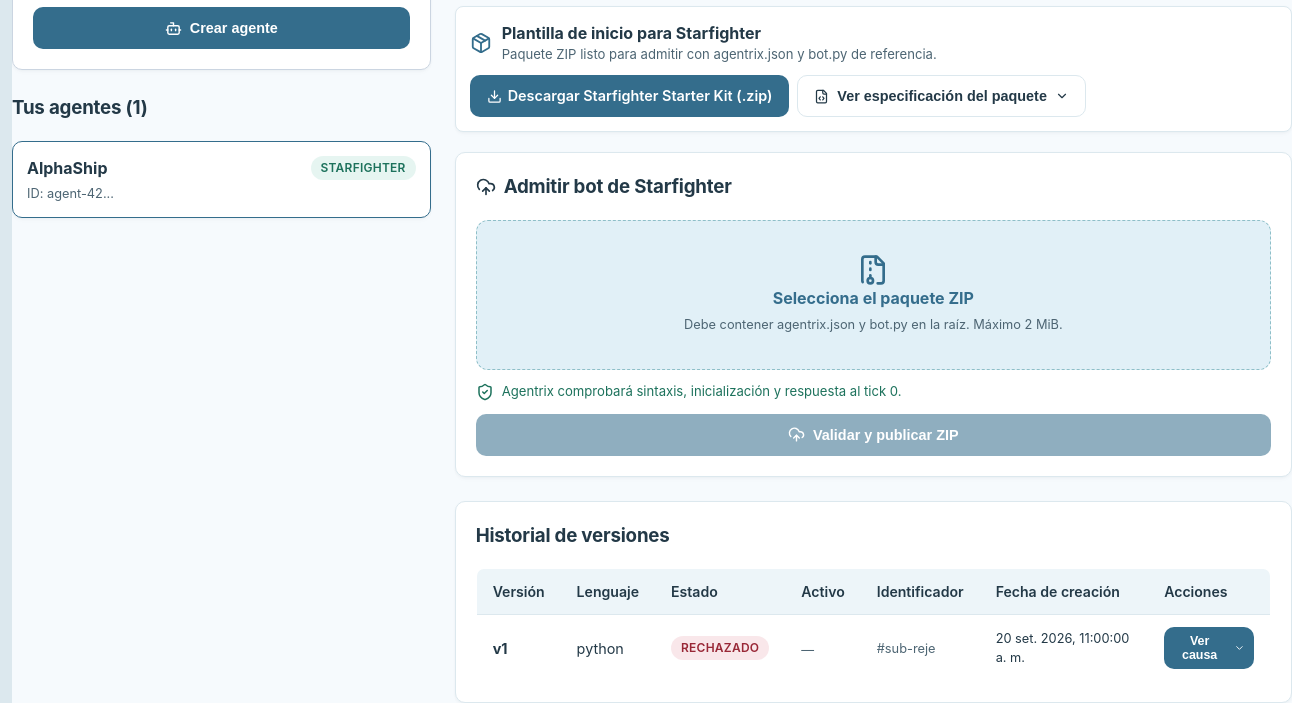
Test: Sprint FQ-2: Asynchronous Bot Admission & Validation Feedback › AgentsPage Asynchronous Admission Integration › renders rejection banner and allows expanding error reason in history when rejected
(page scrolled)
Expected: the text "Rechazado" is shown, x1=671 y1=636 x2=769 y2=660
// Click "Ver causa" to expand error details
Step 1. Click the button "Ver causa" → x=1209, y=648, box x1=1164 y1=627 x2=1254 y2=669
(page scrolled)
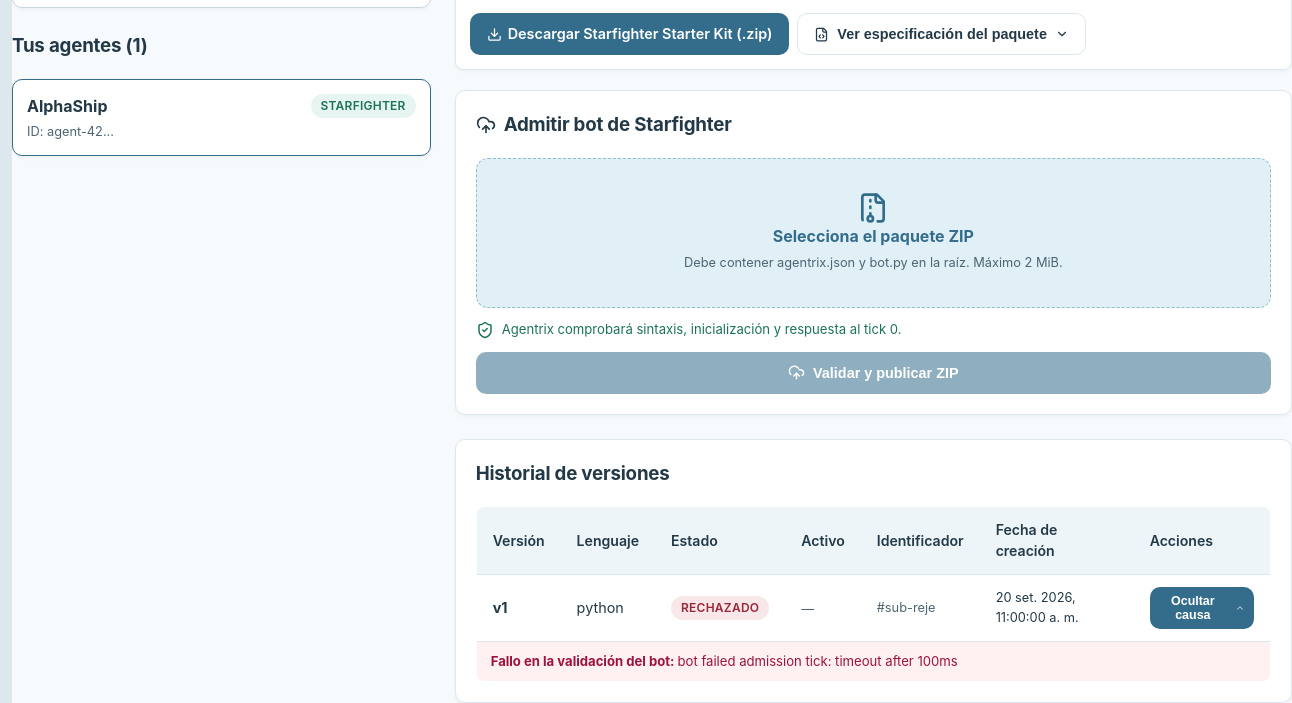
Result: the text "bot failed admission tick: timeout after 100ms" is shown at x1=678 y1=652 x2=958 y2=668
